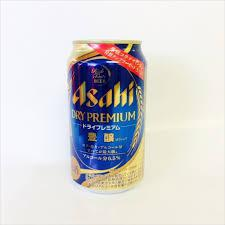beer: (69, 39, 146, 193)
